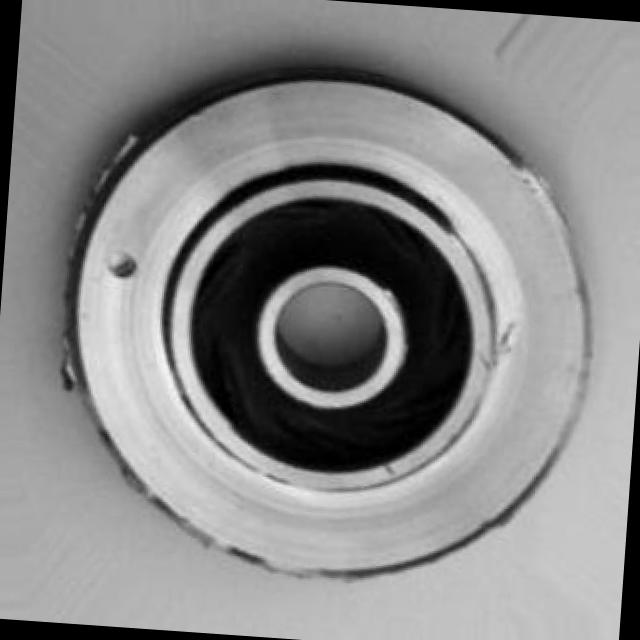Defect: (104, 248, 146, 286)
